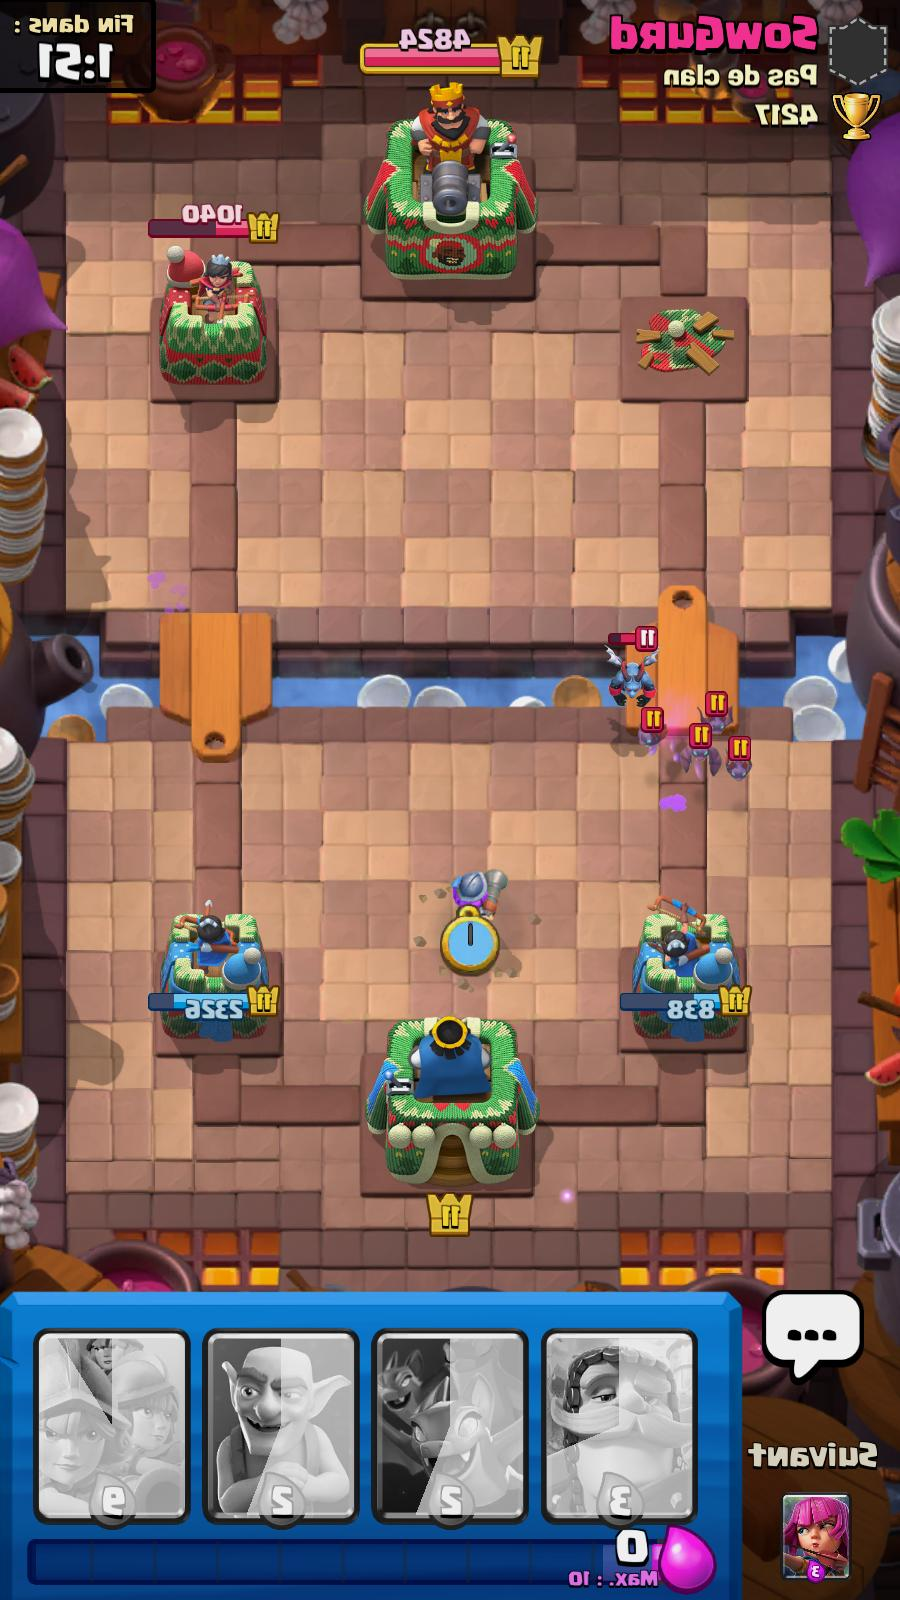bat: (676, 723, 721, 779), (695, 689, 742, 731), (636, 705, 668, 753), (727, 733, 751, 781)
gargouille: (602, 622, 660, 710)
mousquetaire: (449, 865, 508, 926)
